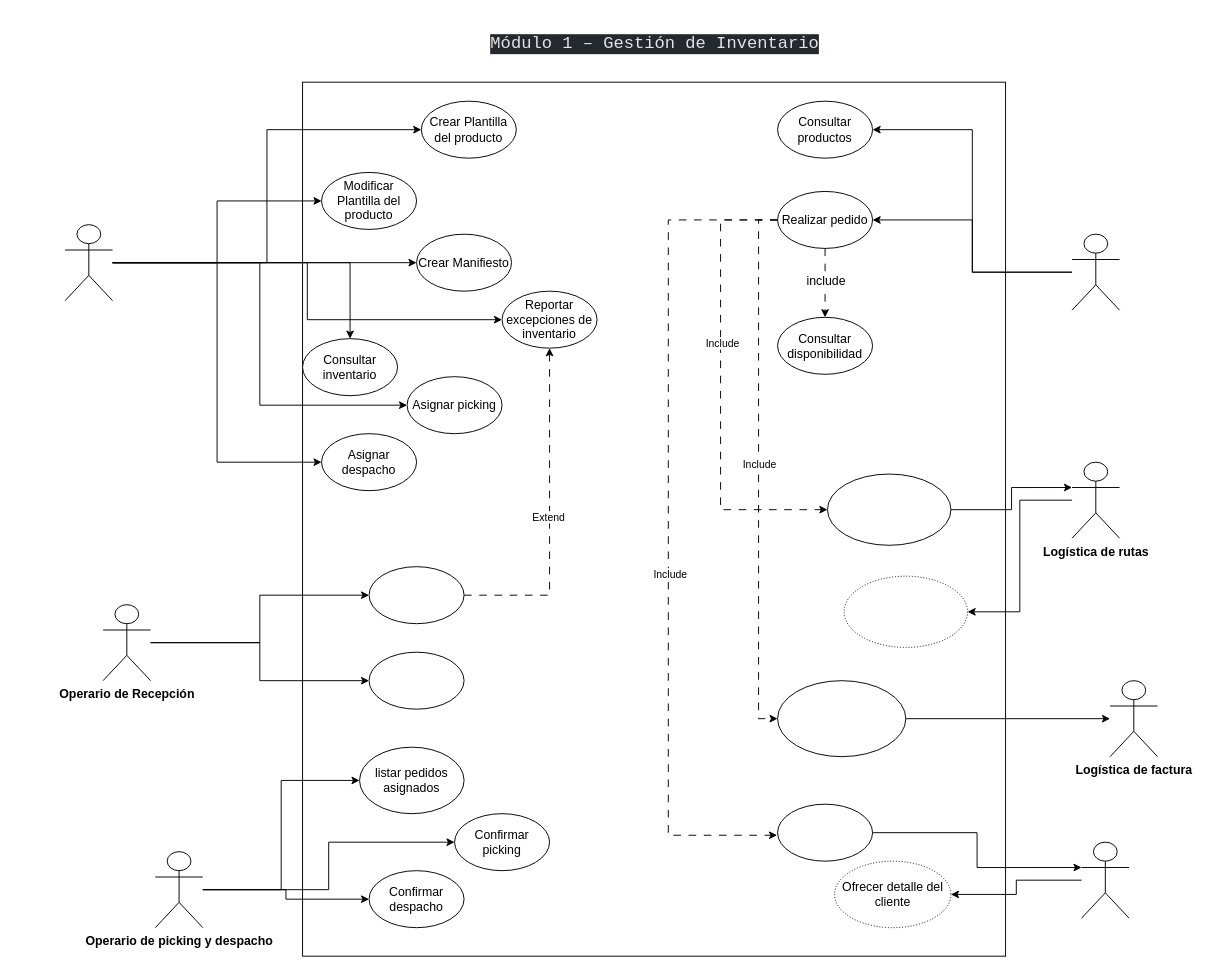
Image size: 1208x973. Some labels were removed from this diagram. Here are the shapes that lost their labels. From the top down, the centre of each, then its label:
[88,262]: Supervisor de inventario
[1095,271]: Asesor Comercial
[888,509]: Solicitar ruta
[416,595]: Registrar ingreso de productos
[905,611]: Asignar ruta
[416,680]: Listar manifiesto
[841,718]: Ofrecer detalles del pedido
[825,832]: Consultar datos del cliente
[1105,879]: Logistica de Usuarios
